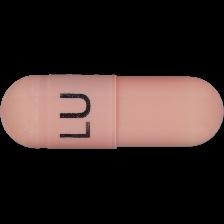43063-537: (0, 0, 224, 224)
